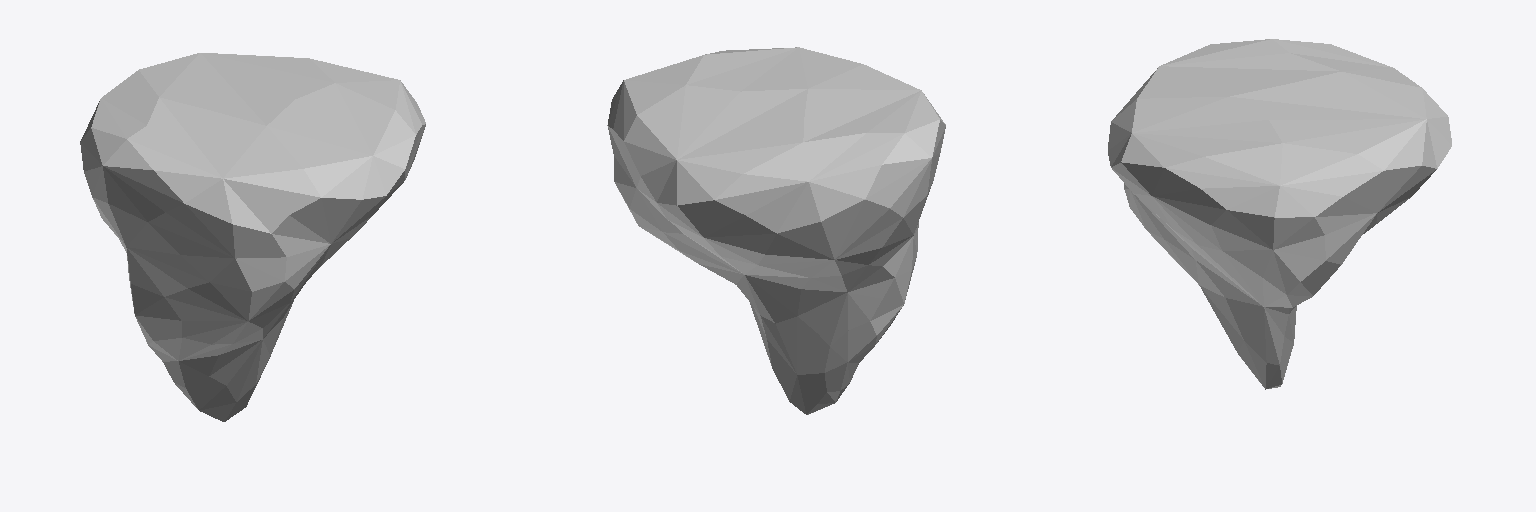
File: island.obj
3 views of the same model, side by side, from view 1: azimuth 30°, elevation 25°; view 2: azimuth 150°, elevation 25°; view 3: azimuth 270°, elevation 25° (orthographic).
Parts seen in each view (by area): view 1: Mesh_Cube; view 2: Mesh_Cube; view 3: Mesh_Cube.
Boxes of the visible parts, x1=… form: Mesh_Cube: x1=80, y1=53, x2=425, y2=421; Mesh_Cube: x1=607, y1=47, x2=945, y2=414; Mesh_Cube: x1=1108, y1=39, x2=1451, y2=389.
Bounding box in the file's own units: 2.12 × 1.94 × 2.